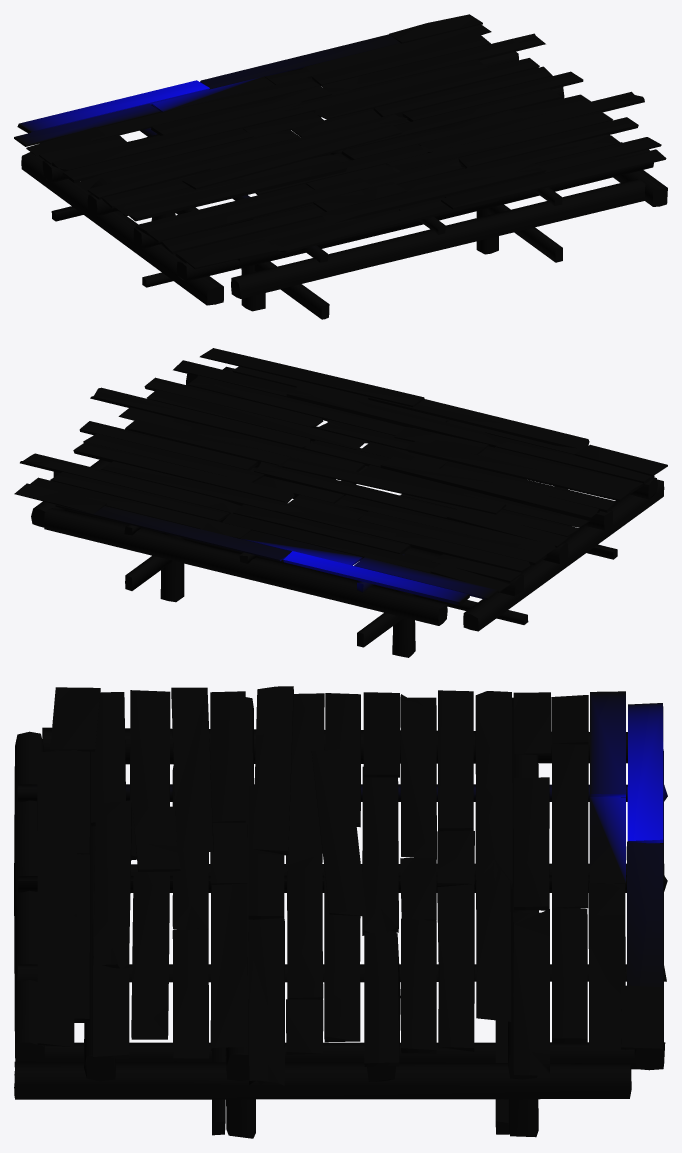
Rendered from SM_MillFloor_10a.FBX.
3 renders of one model, top to bottom at view 1: azimuth 30°, elevation 25°; view 2: azimuth 150°, elevation 25°; view 3: azimuth 270°, elevation 25°, orthographic. The views are drawn at different scales.
Visible parts, largest first — view 1: SM_MillFloor_10a_LOD0; view 2: SM_MillFloor_10a_LOD0; view 3: SM_MillFloor_10a_LOD0.
Part boxes in pixels (left/top/right/bottom): SM_MillFloor_10a_LOD0: left=14, top=14, right=667, bottom=319; SM_MillFloor_10a_LOD0: left=14, top=348, right=667, bottom=657; SM_MillFloor_10a_LOD0: left=14, top=686, right=667, bottom=1138.
Size of what is drawn, in the model's own units: 657 by 463 by 141.
